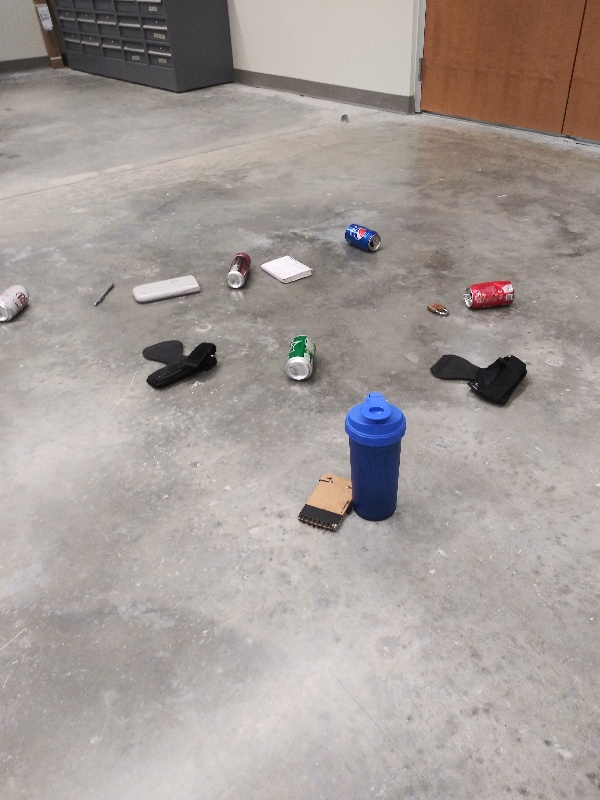can: (460, 276, 521, 315), (283, 332, 318, 383), (342, 221, 386, 256), (224, 248, 254, 295), (1, 283, 32, 328)
